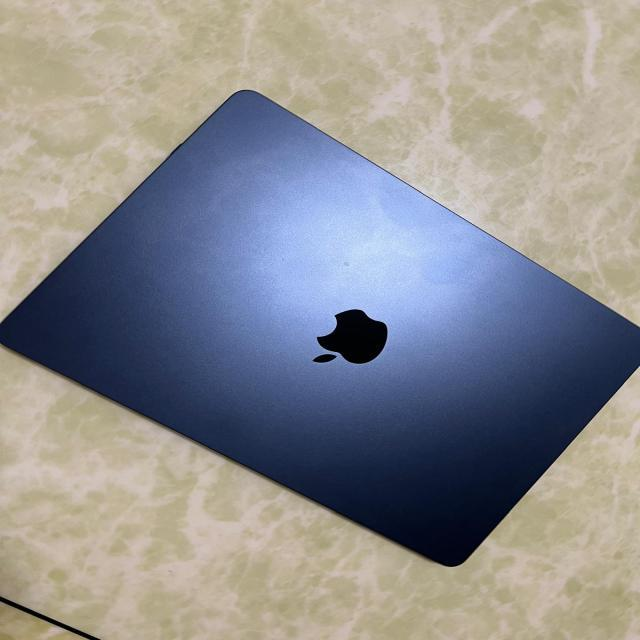laptop: (0, 87, 639, 567)
